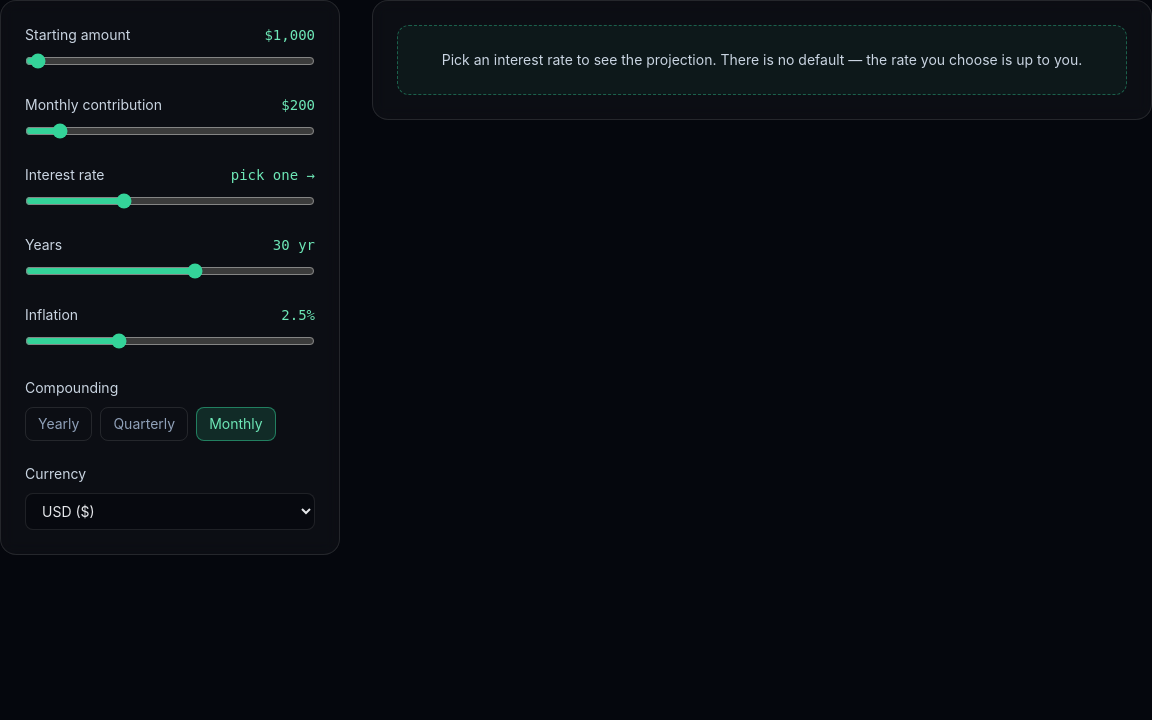
Test: CompoundInterestLab — no default rate › reveals the curve and projected balance once a rate is chosen
This screenshot has width=1152, height=720.
Set the slider labelled "Interest rate" to "7" at [161, 201], box [25, 193, 315, 209]
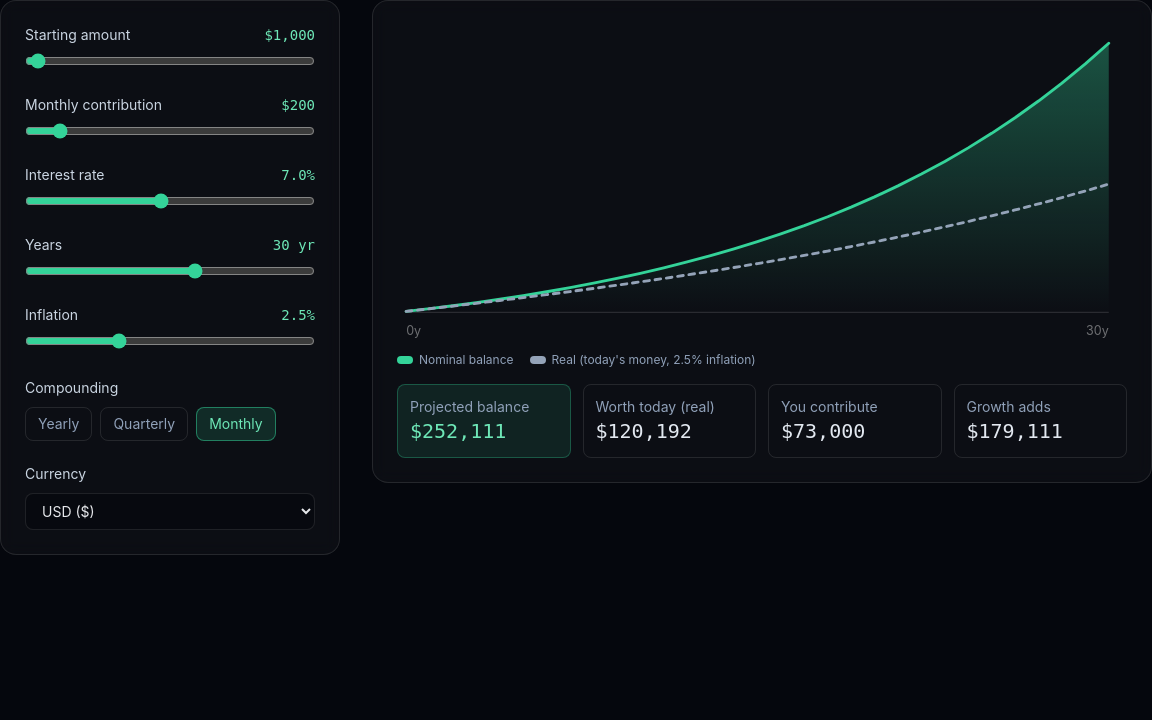
Expected: the text "Projected balance" is shown, [410, 398, 529, 415]
Expected: the picture named "balance grows" is shown, [397, 25, 1127, 344]
